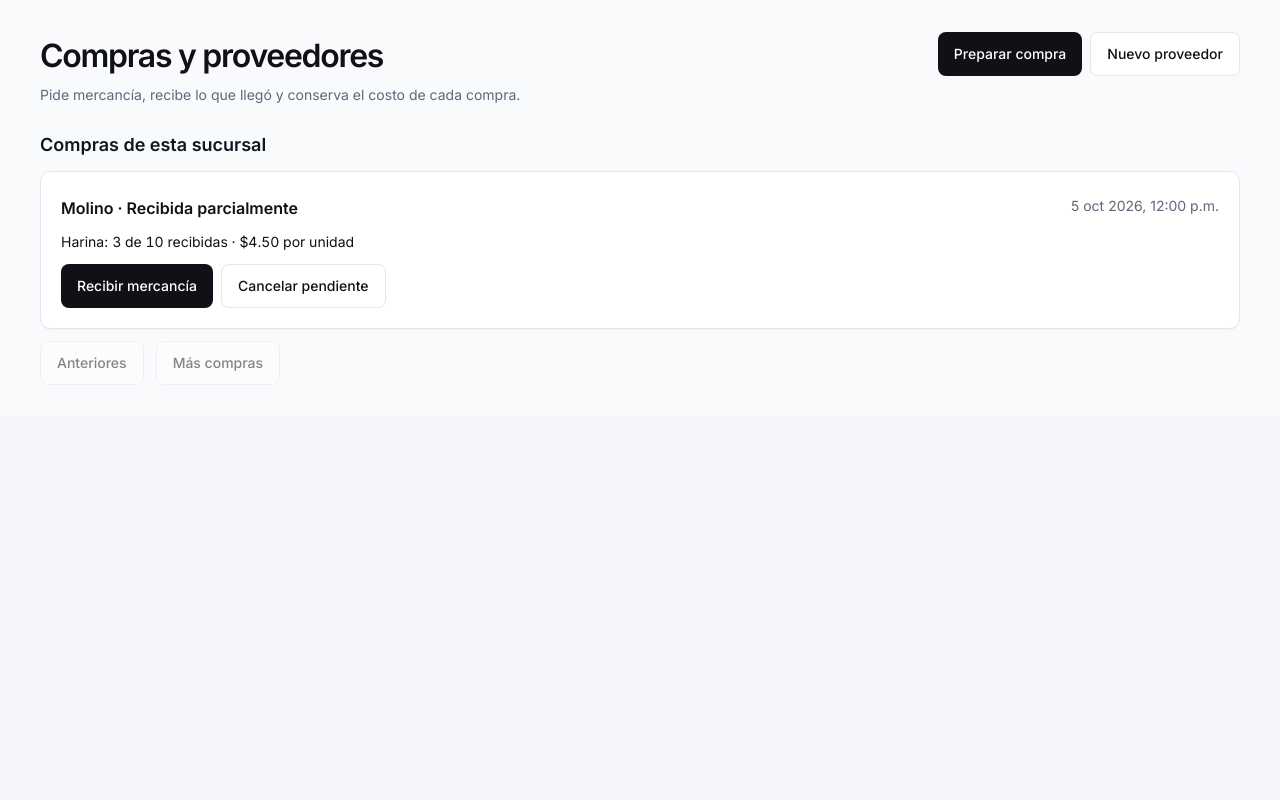
prioritizes existing purchases and opens setup only from the header actions
Check: the element named "Compra de Molino ·" does not show "purchase-1", box x1=40 y1=171 x2=1240 y2=329
Check: the element named "Compra de Molino ·" does not show "Referencia purchase", box x1=40 y1=171 x2=1240 y2=329
Click the button "Preparar compra": (1010, 54) x1=938 y1=32 x2=1082 y2=76
(page scrolled)
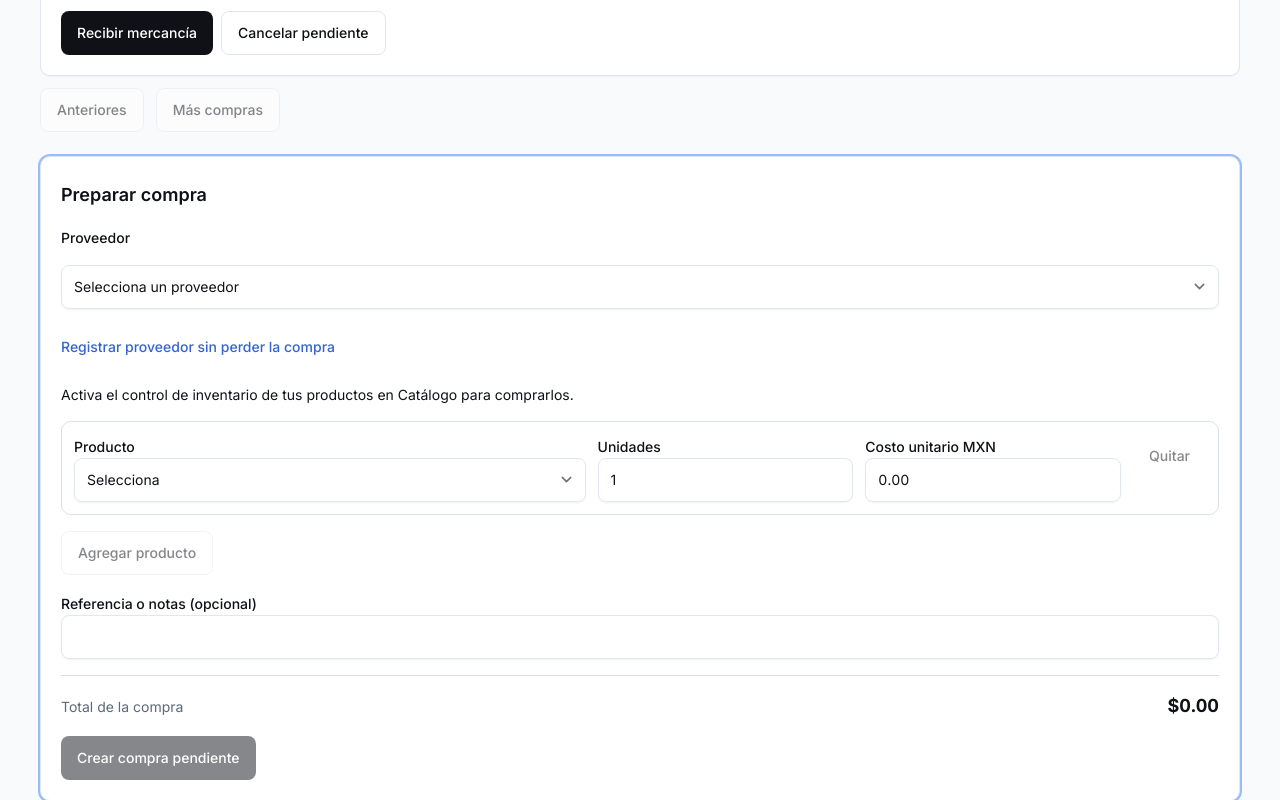
Check: the button "Crear compra pendiente" is disabled, box x1=61 y1=736 x2=256 y2=780
